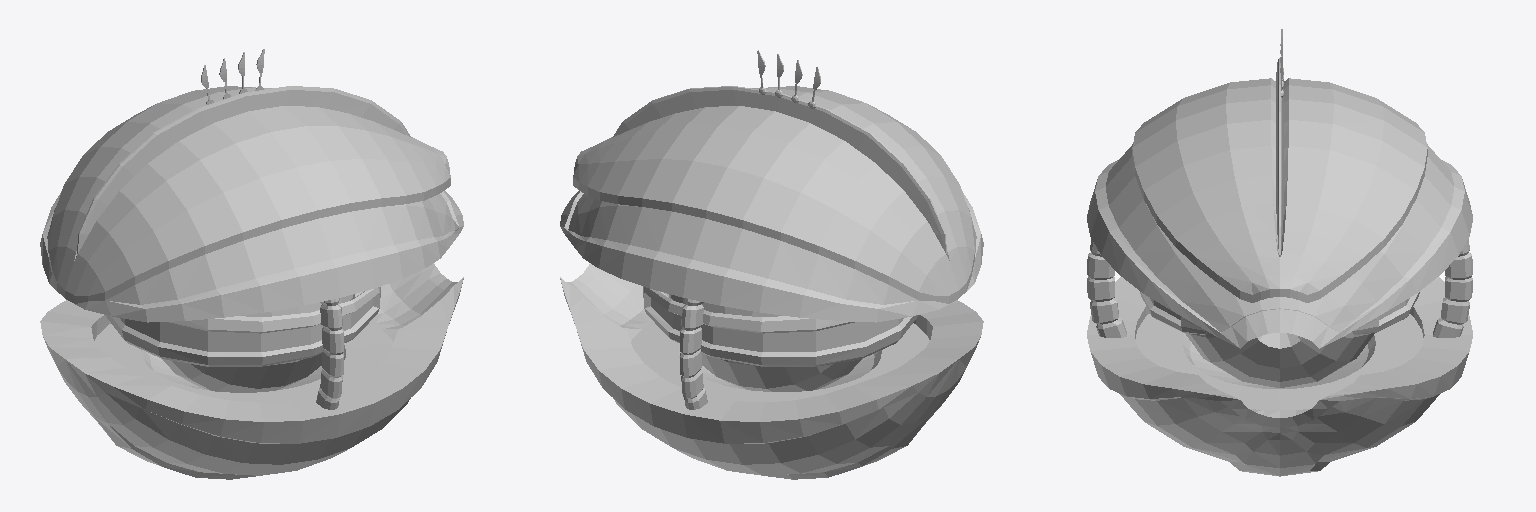
File: DeliveranceEmitter.obj
The picture shows the model from 3 angles: view 1: azimuth 30°, elevation 25°; view 2: azimuth 150°, elevation 25°; view 3: azimuth 270°, elevation 25°; orthographic projection.
Size of the model in its own units: 1.19 by 1.23 by 1.05.